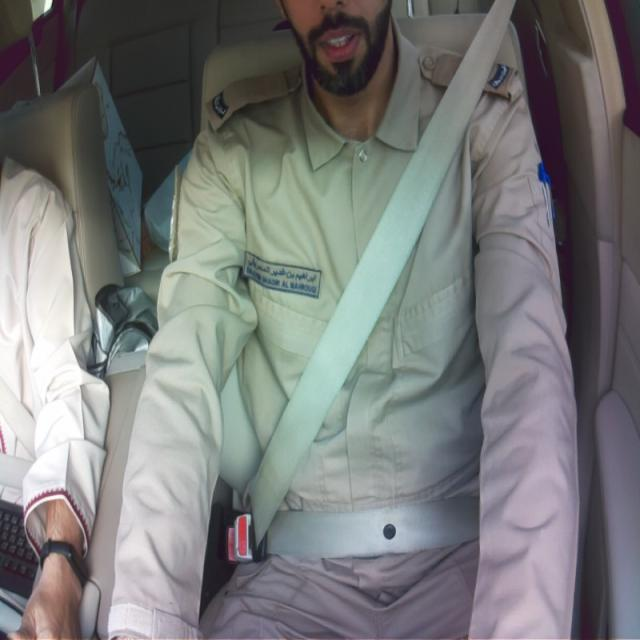seatbelt: (250, 0, 514, 558)
